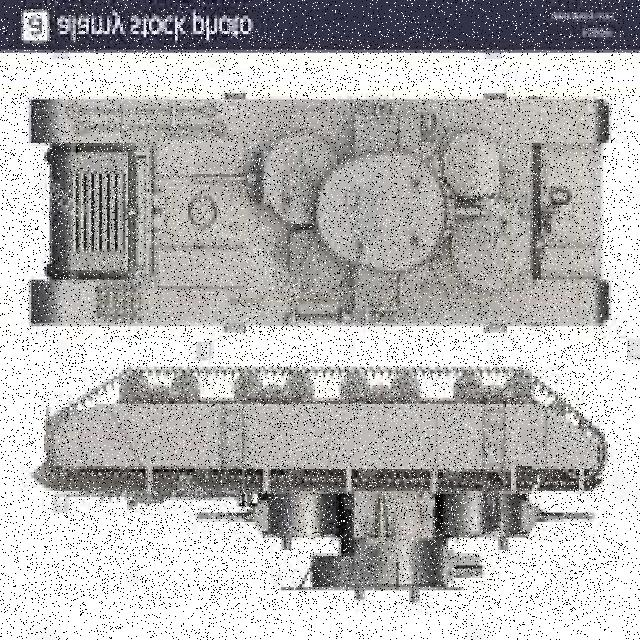MIL_MBT: (20, 79, 620, 356), (45, 350, 610, 610)
